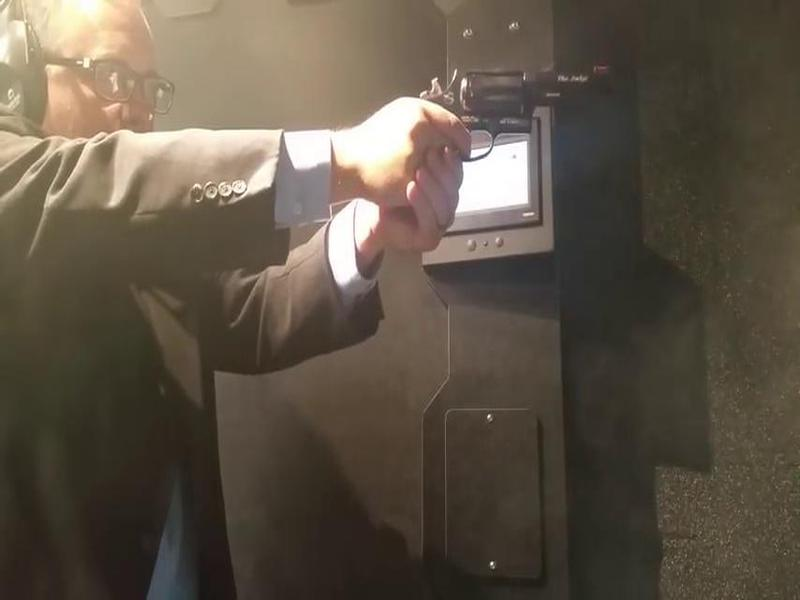Revolver: (407, 55, 651, 206)
